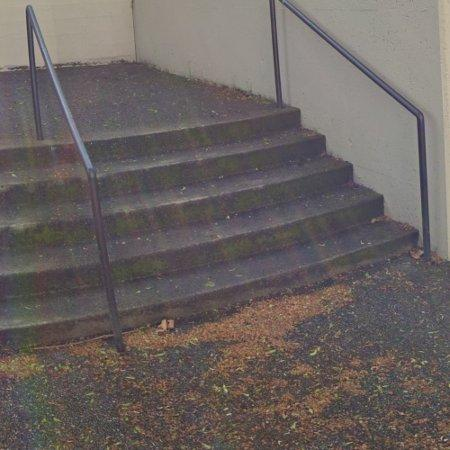stairs: (57, 64, 418, 329), (0, 69, 111, 346)
